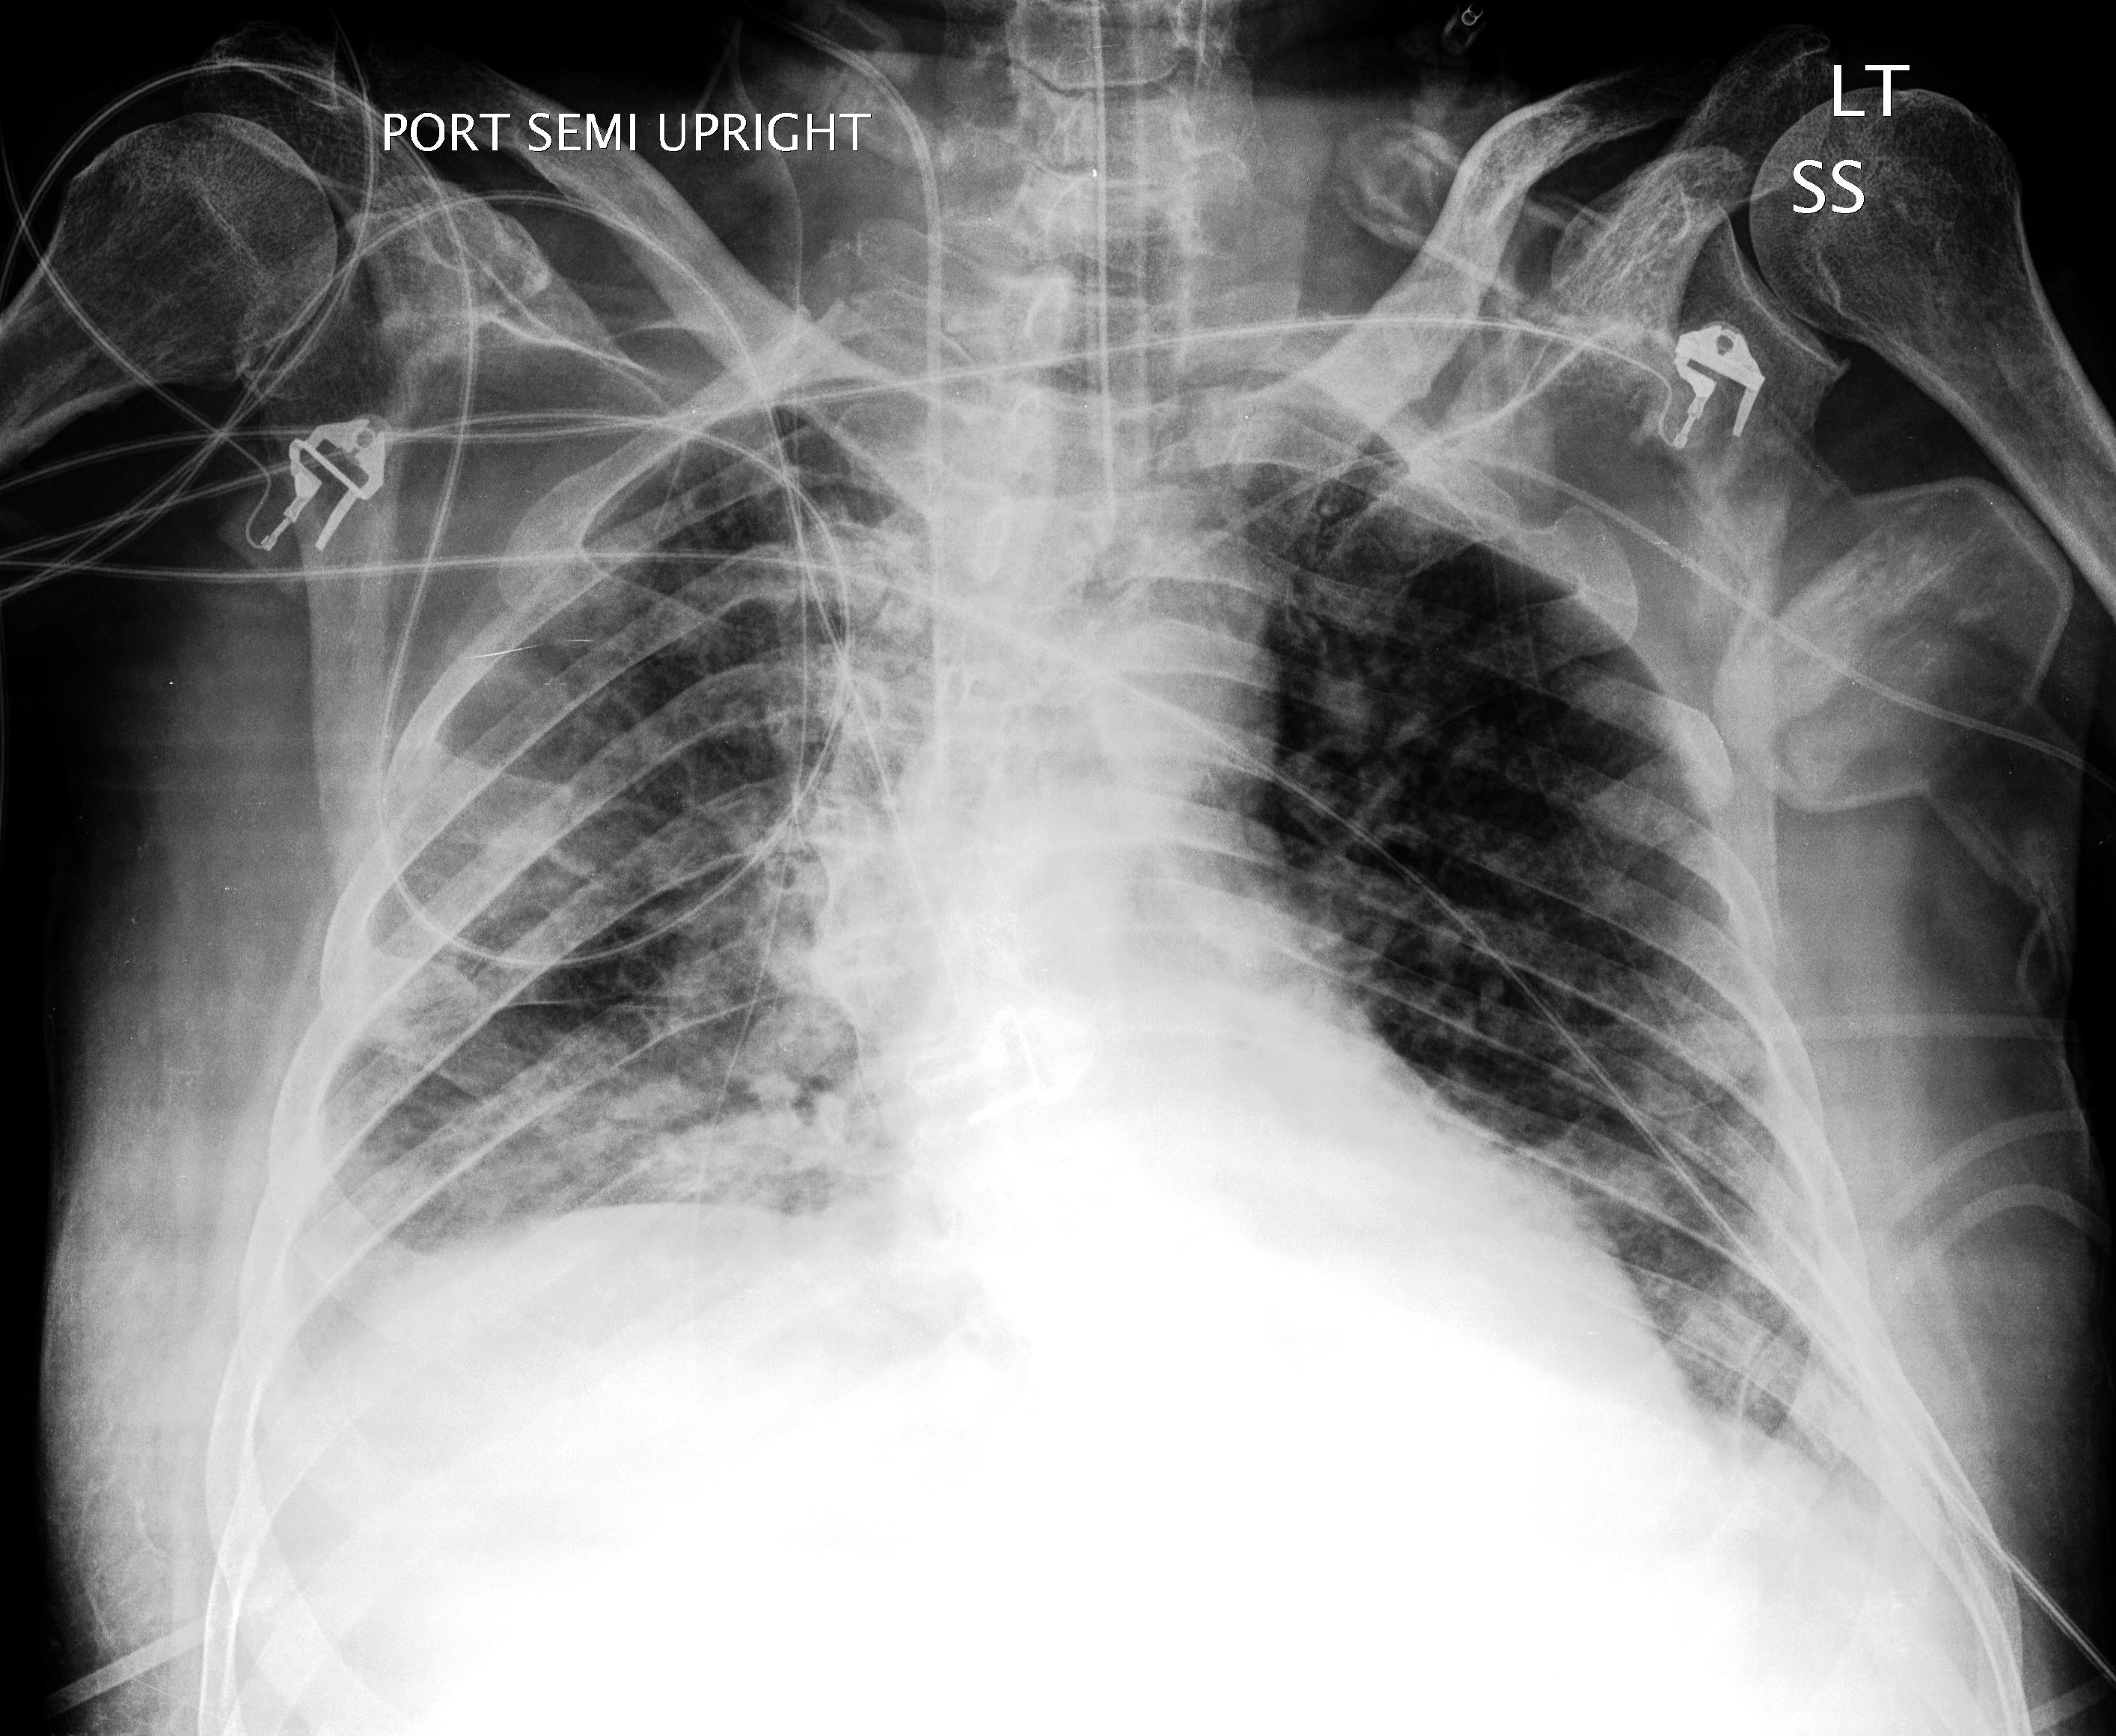Pleural Effusion: (220, 1172, 798, 1587)
